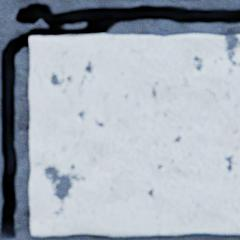brick: (29, 34, 239, 235)
crack: (0, 1, 239, 239)
